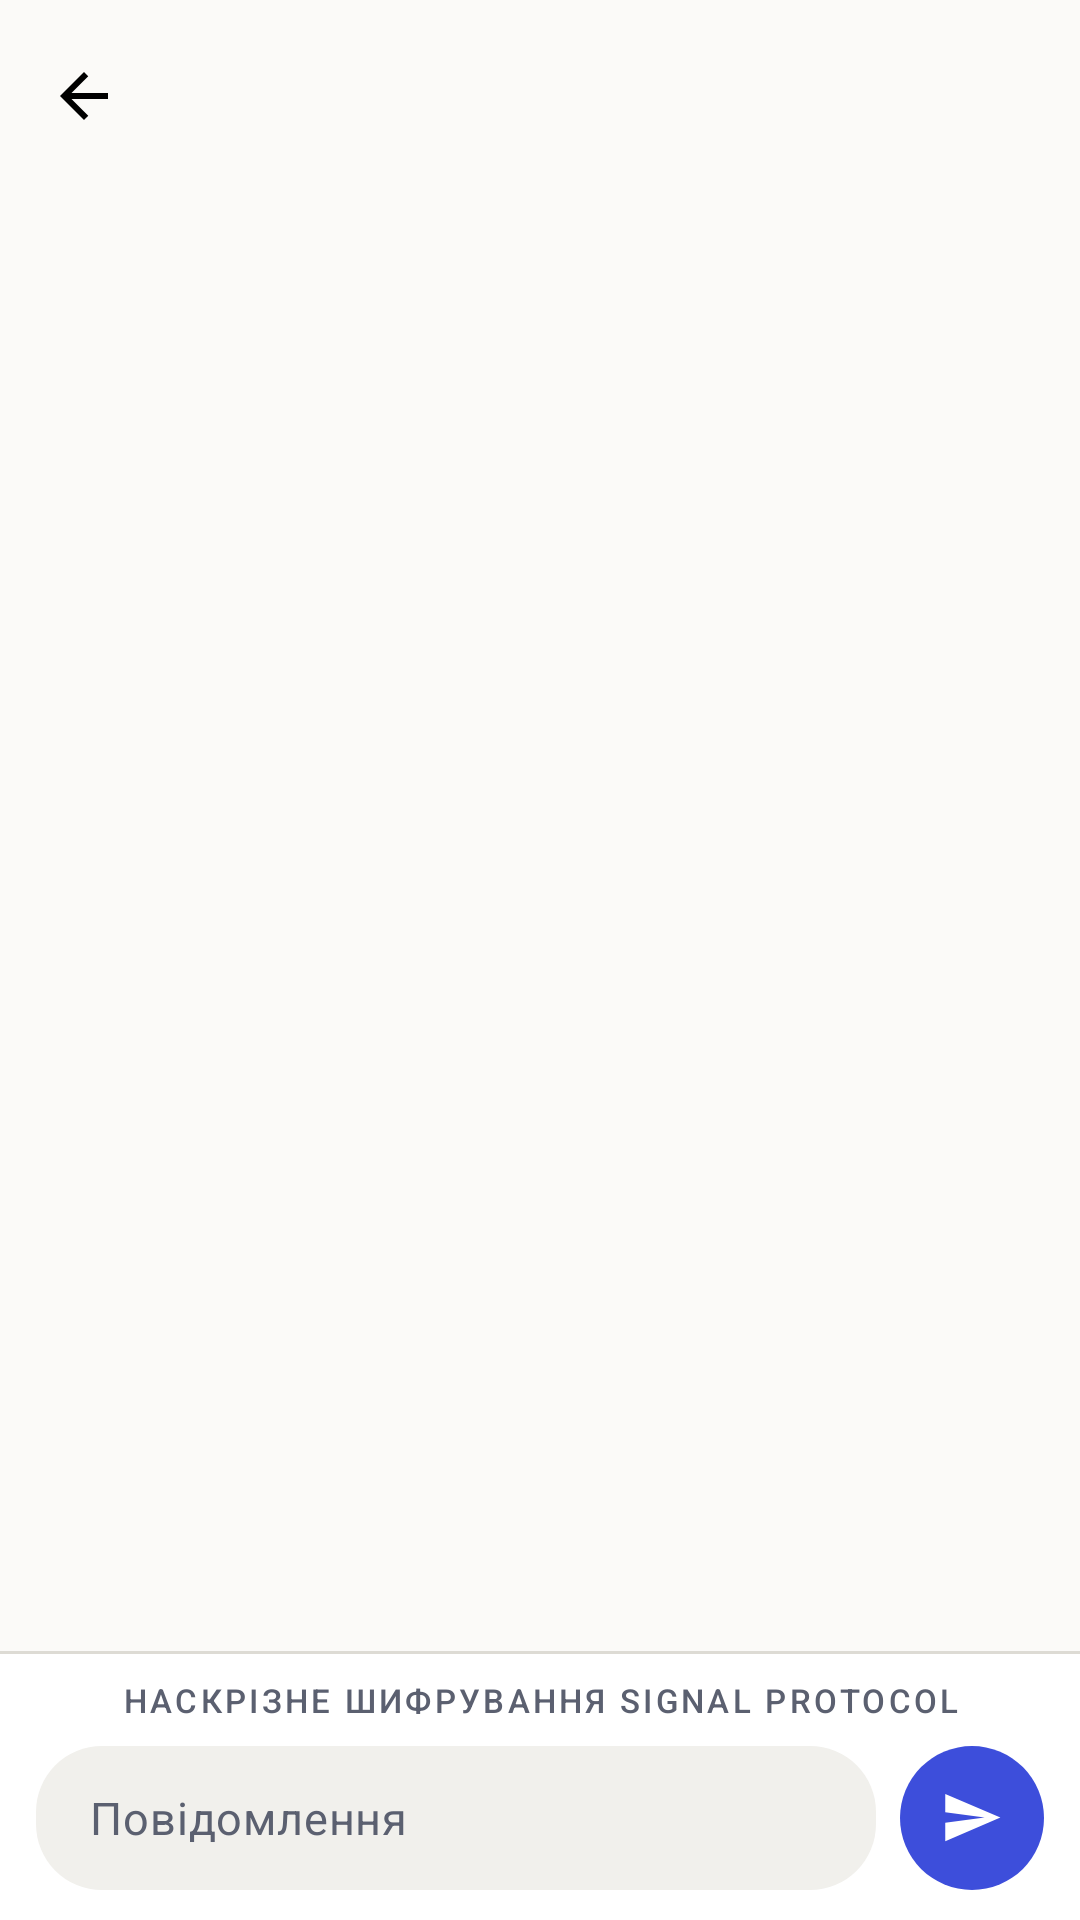

Point at icon controls on the screen. Image size 1080px×1920px, points as [x,y].
Надіслати: [972,1818]
